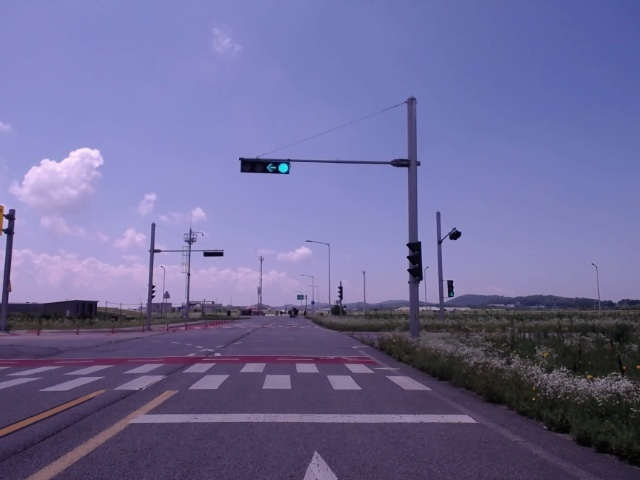all_green_4: (244, 159, 291, 173)
